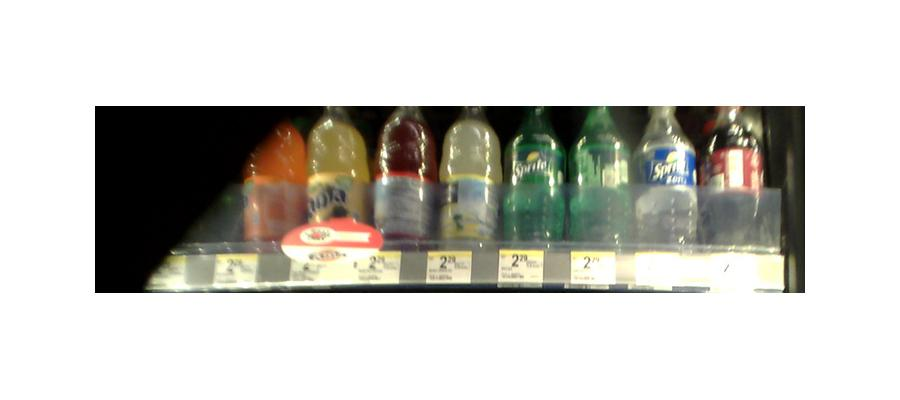bottle: (697, 106, 766, 250), (632, 103, 694, 246), (373, 103, 435, 246), (305, 104, 368, 244), (239, 113, 304, 247), (439, 105, 501, 244), (504, 106, 565, 245), (570, 105, 630, 243)
